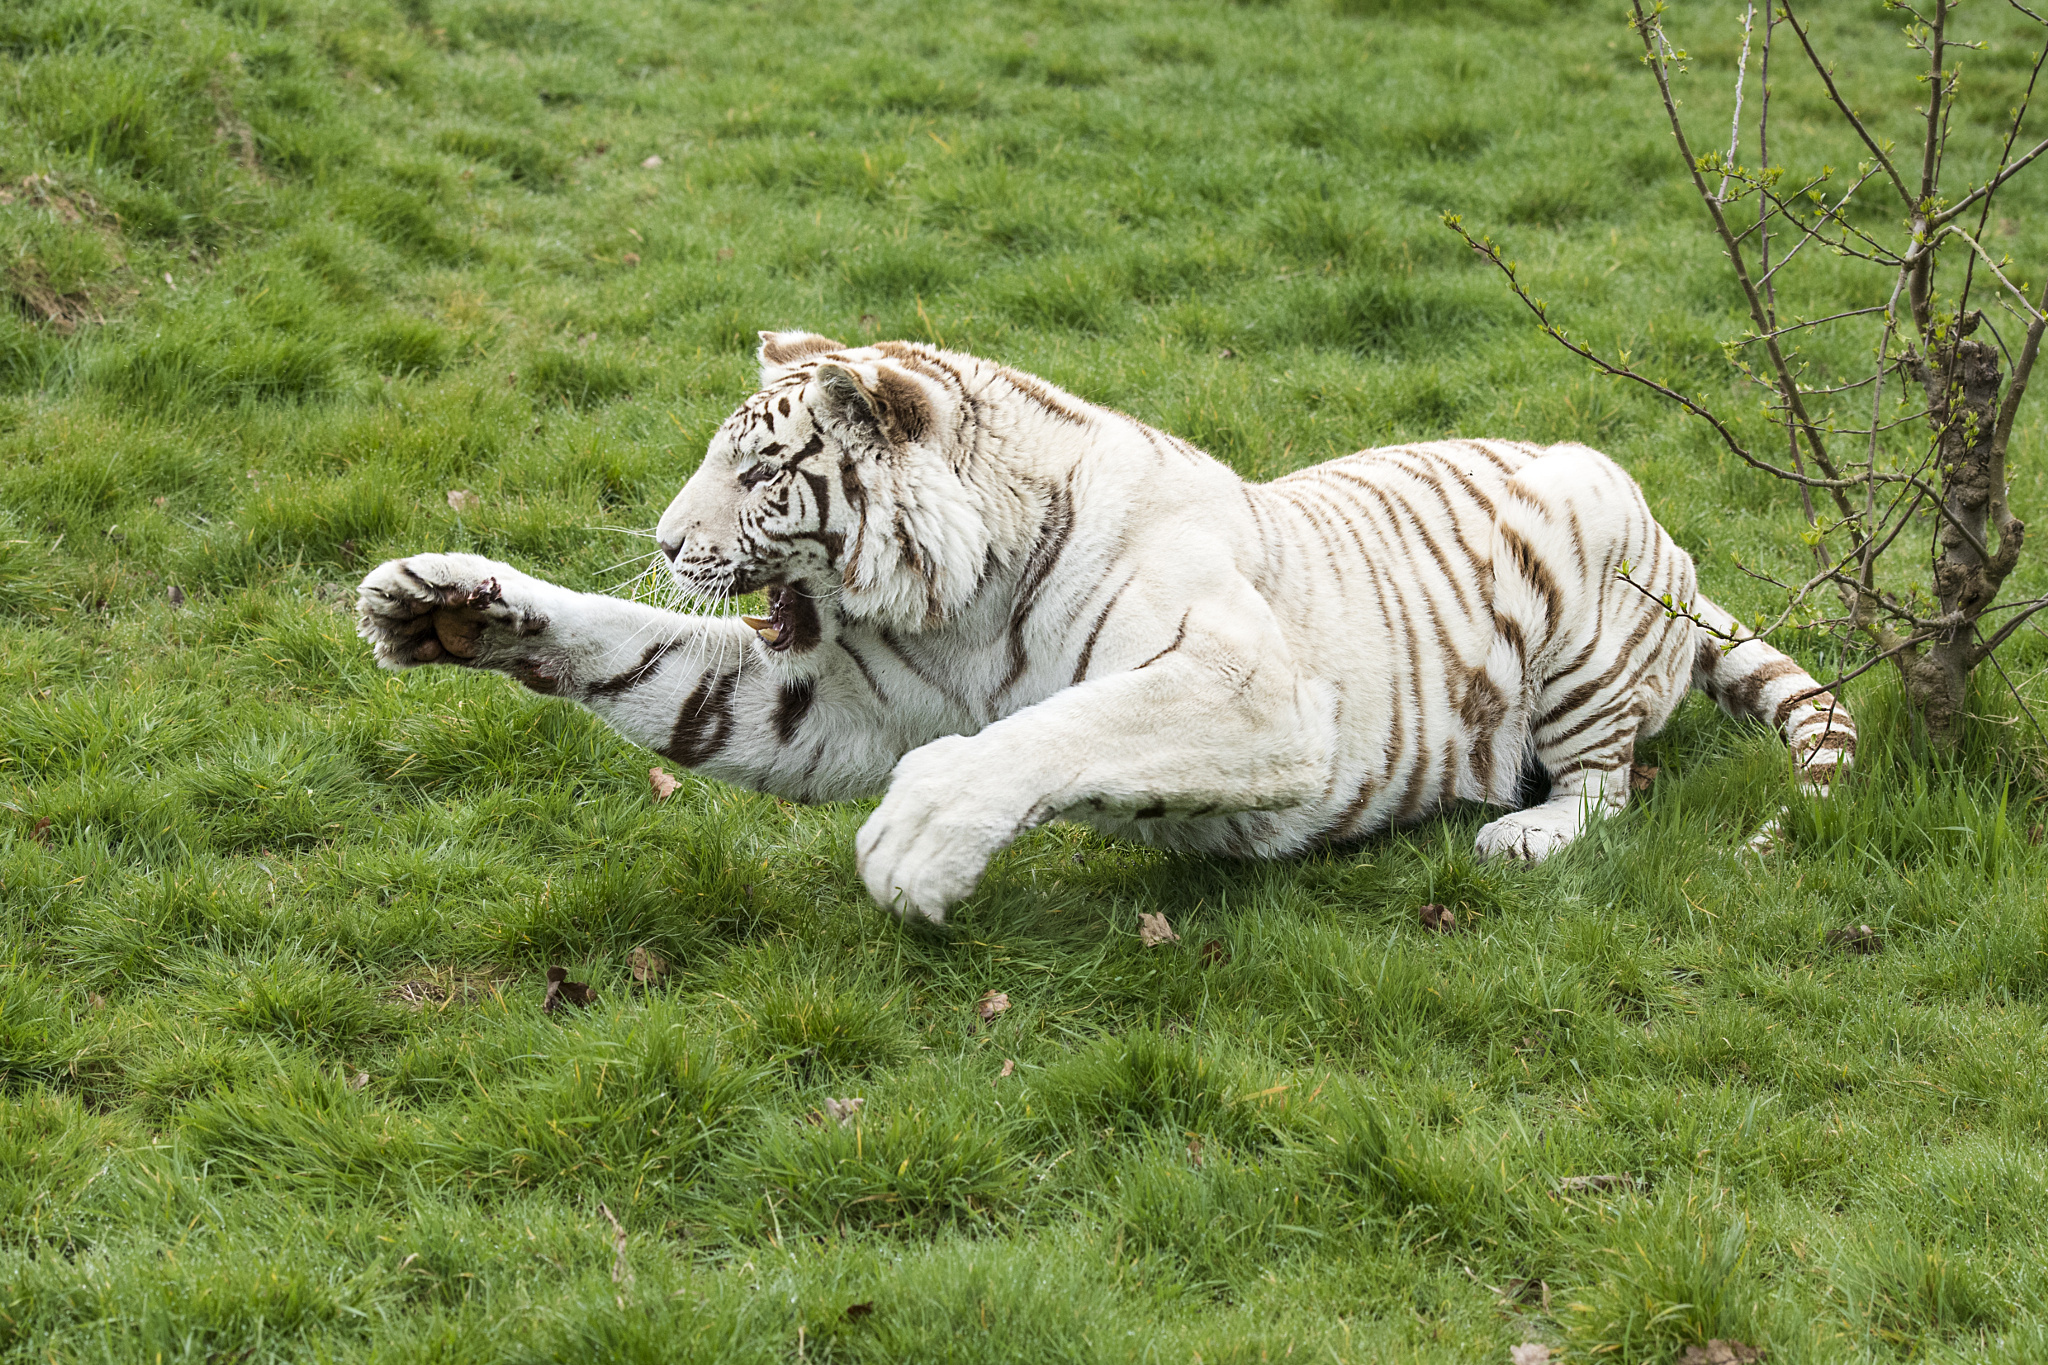tiger: (400, 329, 1852, 906)
